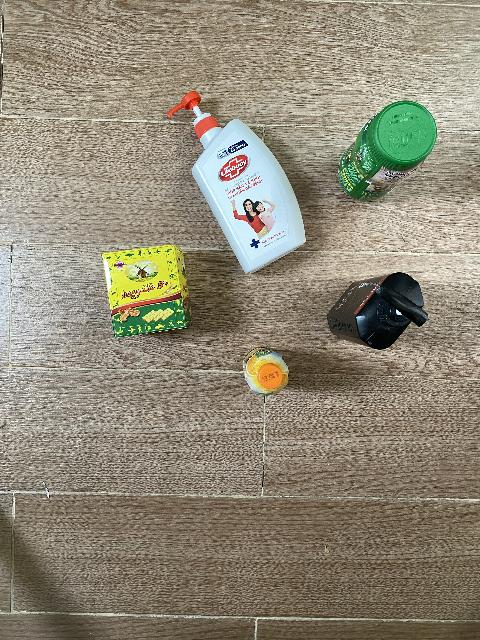X-men: (327, 272, 428, 350)
life-buoy: (167, 91, 306, 276)
luong_kho: (101, 245, 192, 338)
milo: (338, 101, 437, 201)
teppy_orange_juice: (243, 347, 290, 396)
